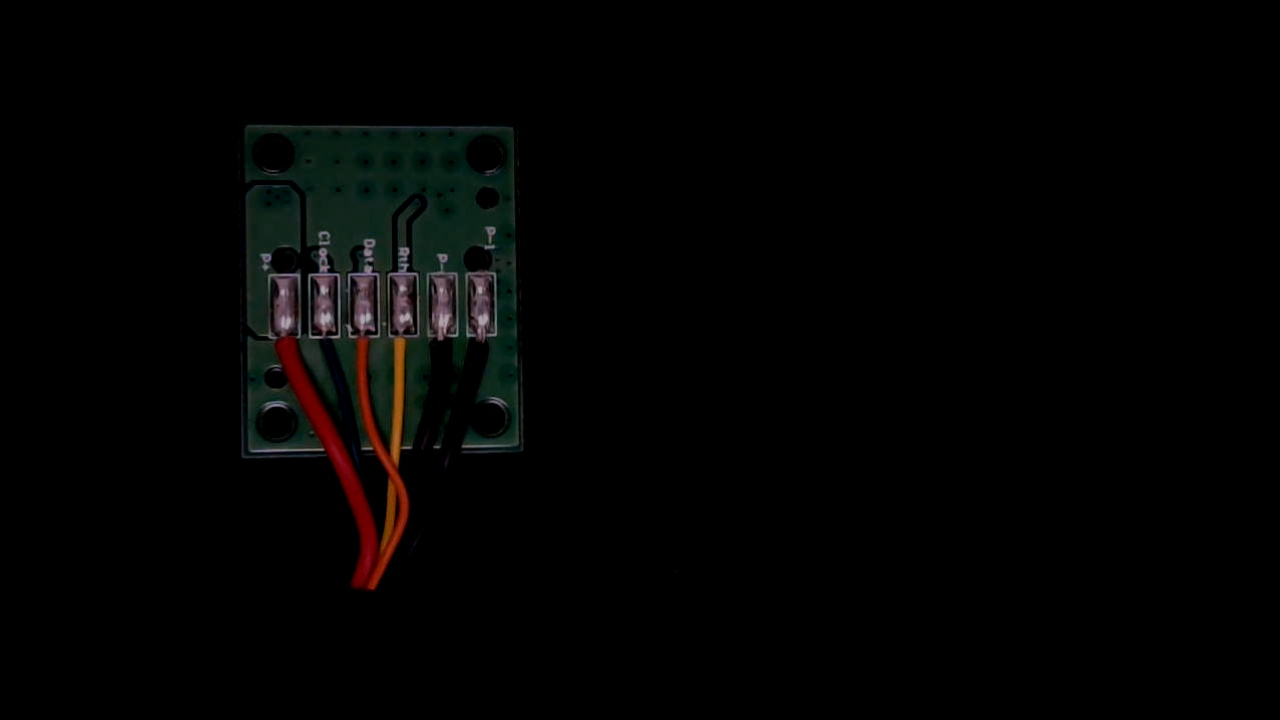Black: (425, 318, 459, 391)
Black1: (467, 316, 500, 383)
Green: (308, 314, 342, 375)
Orange: (348, 315, 380, 387)
Red: (269, 317, 304, 387)
Yellow: (389, 317, 423, 391)
